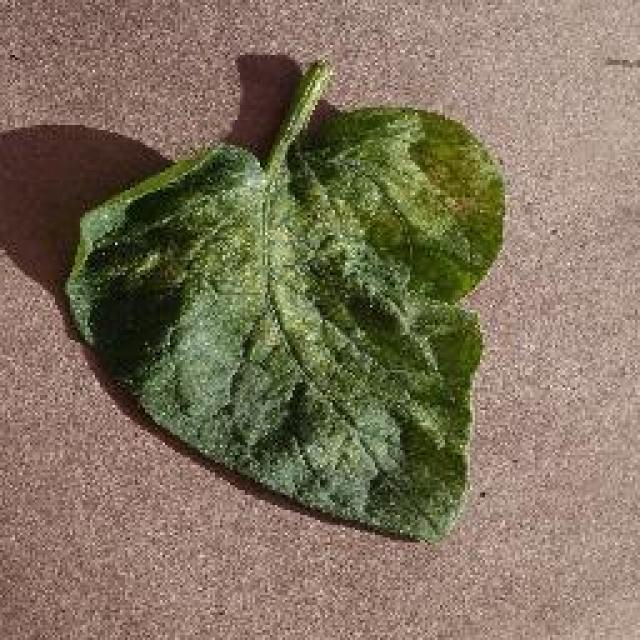Tomato___Spider_mites Two-spotted_spider_mite: (65, 60, 500, 538)
